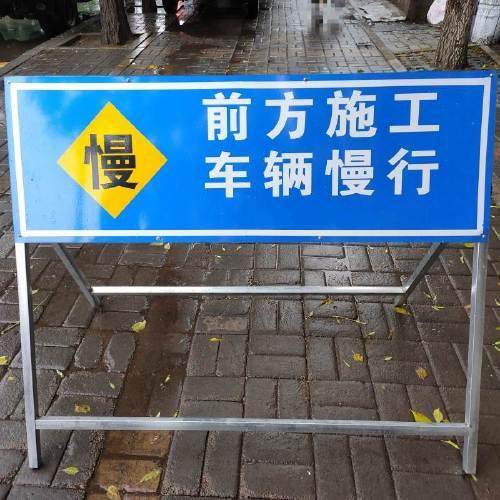sign: (6, 78, 491, 474)
